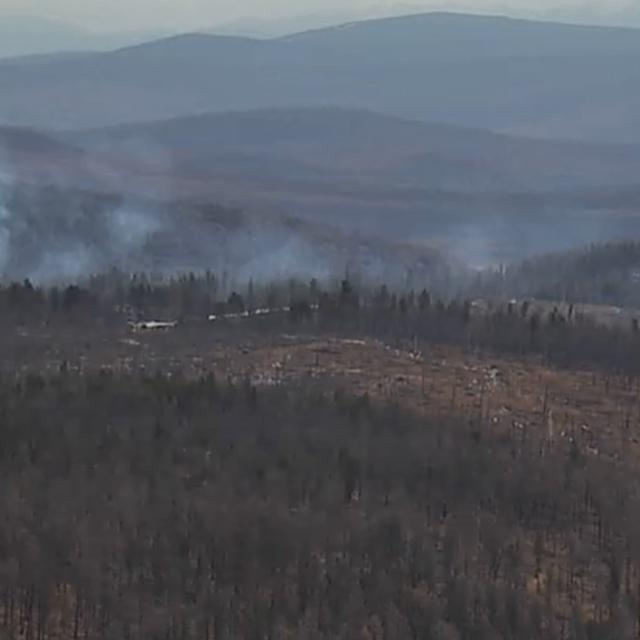Smoke: (0, 131, 640, 333)
